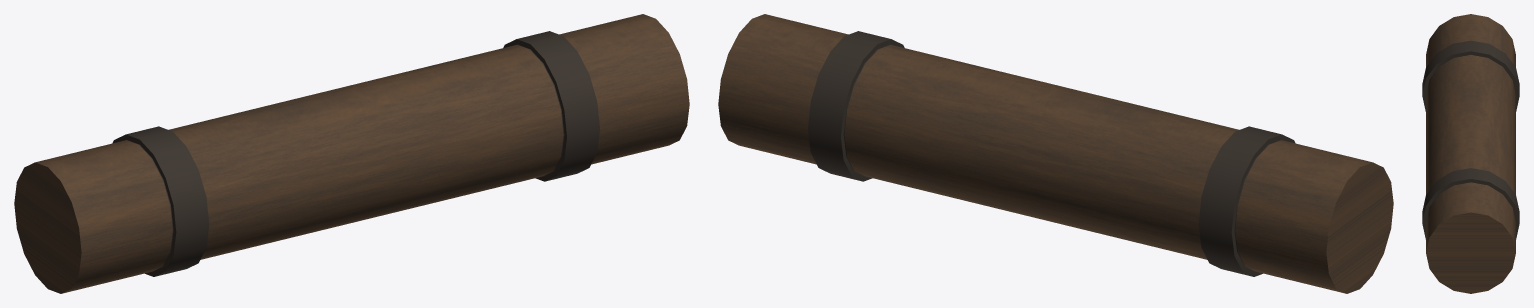
File: woodenBellHammer.obj
3 views of the same model, side by side, from view 1: azimuth 30°, elevation 25°; view 2: azimuth 150°, elevation 25°; view 3: azimuth 270°, elevation 25° (orthographic). The views are drawn at different scales.
Parts seen in each view (by area): view 1: 円柱; view 2: 円柱; view 3: 円柱.
Boxes of the visible parts, box(x1,y1,x2,y2) form: 円柱: box(14, 14, 689, 293); 円柱: box(718, 14, 1393, 293); 円柱: box(1422, 14, 1519, 293).
Bounding box in the file's own units: 5.74 × 1.19 × 1.19.
Materials: 1 (1 with a texture image).
